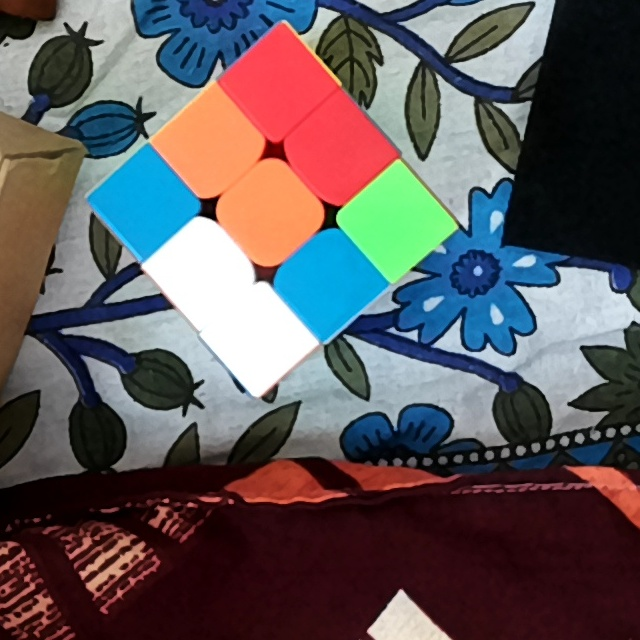tile: (304, 121, 366, 181), (366, 191, 427, 251), (239, 182, 299, 243), (246, 54, 308, 113), (297, 253, 359, 311), (224, 312, 288, 368), (116, 172, 175, 232), (177, 117, 233, 180), (171, 242, 229, 299)
